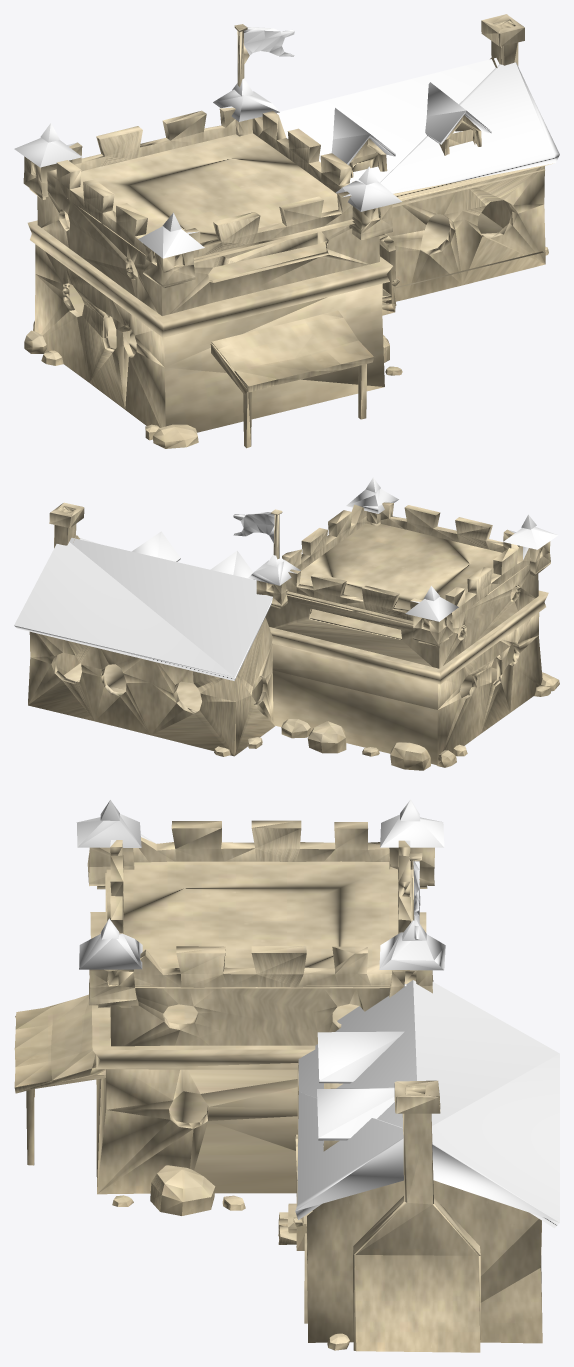
3 views of the same model, one above another, from view 1: azimuth 30°, elevation 25°; view 2: azimuth 150°, elevation 25°; view 3: azimuth 270°, elevation 25° (orthographic). The views are drawn at different scales.
Visible parts, largest first — view 1: castle_d1.2; view 2: castle_d1.2; view 3: castle_d1.2.
Boxes of the visible parts, x1,y1,x2,y2 form: castle_d1.2: (14,14,559,448); castle_d1.2: (14,477,559,770); castle_d1.2: (14,799,559,1352).
Bounding box in the file's own units: 2.9 × 1.52 × 2.26.
Materials: 2 (1 with a texture image).
